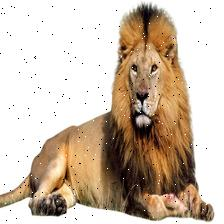Lion: (0, 5, 211, 224)
